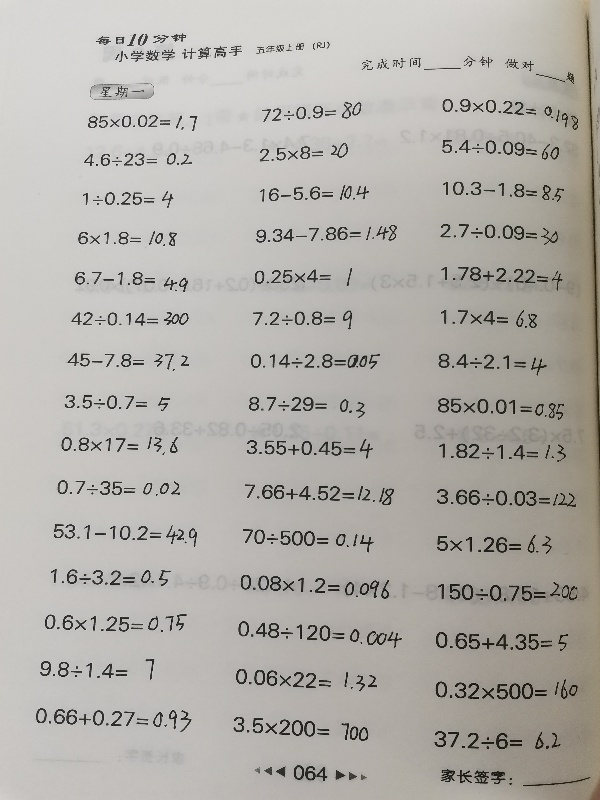equation: (439, 95, 586, 134), (31, 705, 194, 734), (49, 517, 201, 546), (229, 715, 373, 745), (233, 621, 405, 646), (236, 573, 392, 599), (241, 480, 397, 506), (431, 676, 581, 703), (433, 578, 582, 605), (231, 666, 380, 692), (40, 610, 190, 635), (431, 628, 571, 654), (243, 436, 377, 463), (252, 221, 400, 245), (245, 260, 363, 290), (432, 485, 579, 509), (436, 263, 566, 290), (430, 727, 564, 753), (239, 526, 377, 551), (36, 657, 168, 683), (435, 440, 569, 465), (433, 395, 567, 420), (432, 529, 555, 556), (244, 392, 369, 418), (65, 350, 193, 375), (58, 433, 181, 459), (247, 350, 384, 373), (437, 220, 562, 245), (438, 136, 562, 161), (439, 178, 567, 202), (48, 566, 175, 590), (70, 267, 191, 292), (434, 350, 550, 376), (53, 476, 183, 499), (250, 307, 356, 334), (72, 188, 192, 211), (68, 308, 193, 330), (436, 304, 541, 330), (257, 99, 365, 124), (83, 110, 200, 133), (256, 182, 372, 204), (60, 391, 173, 413), (81, 150, 196, 171), (73, 227, 180, 249), (256, 140, 352, 163)
